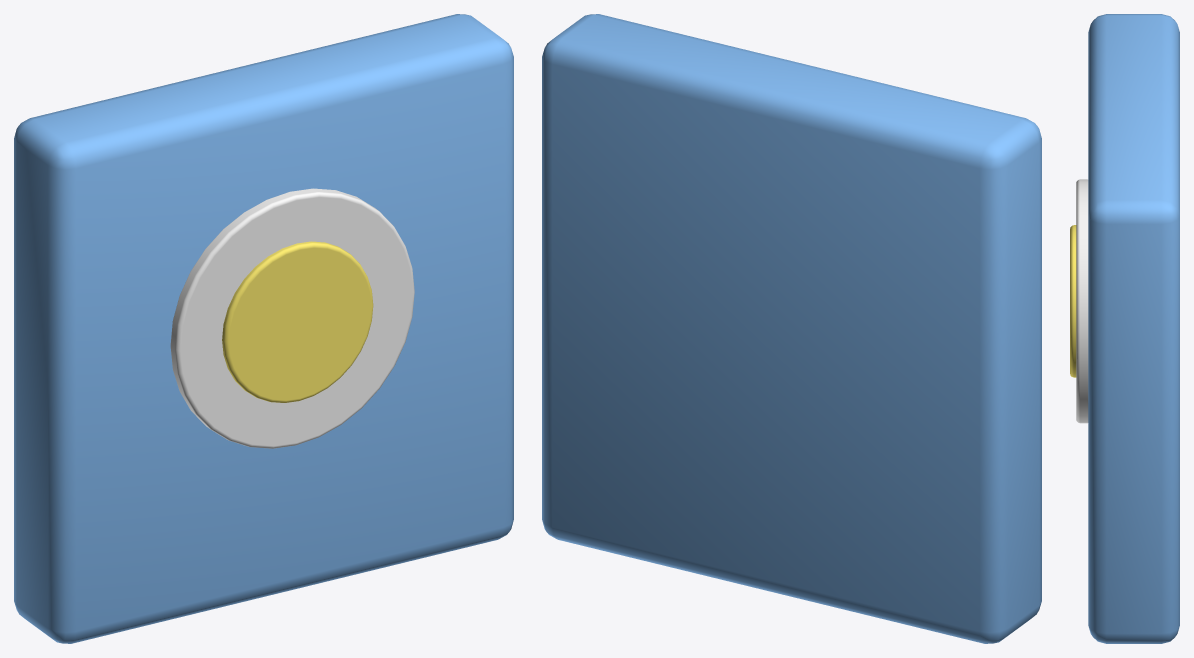
File: door.glb
3 views of the same model, side by side, from view 1: azimuth 30°, elevation 25°; view 2: azimuth 150°, elevation 25°; view 3: azimuth 270°, elevation 25° (orthographic). The views are drawn at different scales.
Parts seen in each view (by area): view 1: DoorSlab, DoorRing, DoorDot; view 2: DoorSlab; view 3: DoorSlab, DoorRing, DoorDot.
Boxes of the visible parts, box(x1,y1,x2,y2) form: DoorSlab: box(14, 14, 513, 643); DoorRing: box(170, 188, 414, 448); DoorDot: box(222, 241, 373, 402); DoorSlab: box(542, 14, 1041, 643); DoorSlab: box(1088, 14, 1179, 643); DoorRing: box(1076, 179, 1088, 423); DoorDot: box(1070, 225, 1076, 377).
Size of the model in its own units: 3.1 by 3.2 by 0.72.
